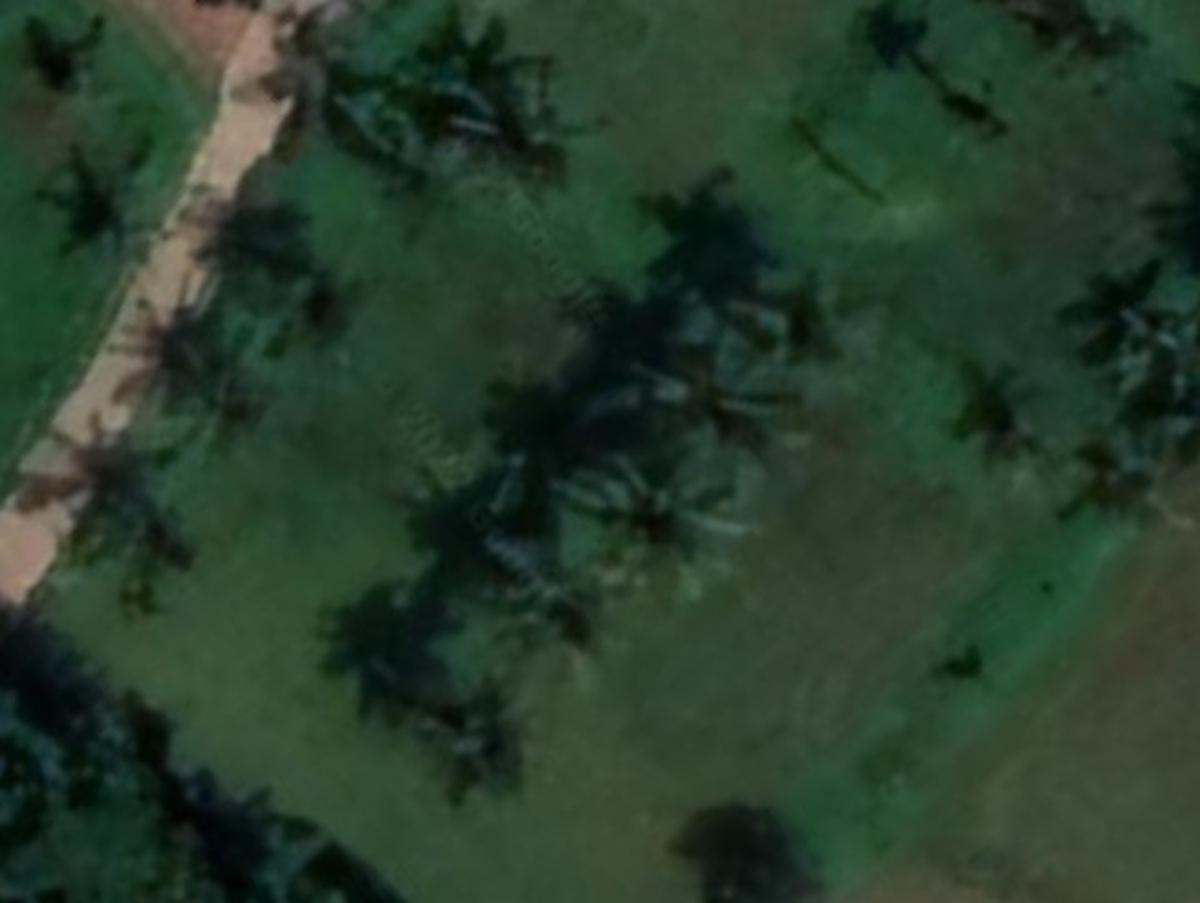coconut: (567, 454, 762, 630), (707, 239, 866, 408), (646, 360, 820, 496), (388, 668, 564, 802), (155, 313, 304, 457), (456, 58, 610, 184)
